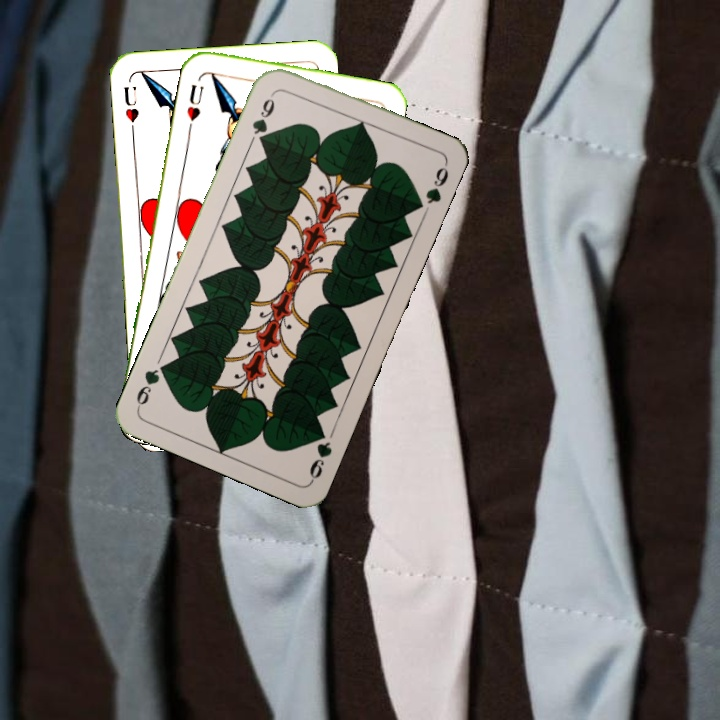G9: (305, 423, 335, 484), (248, 88, 278, 147)
HU: (119, 82, 141, 136), (182, 80, 206, 124)
